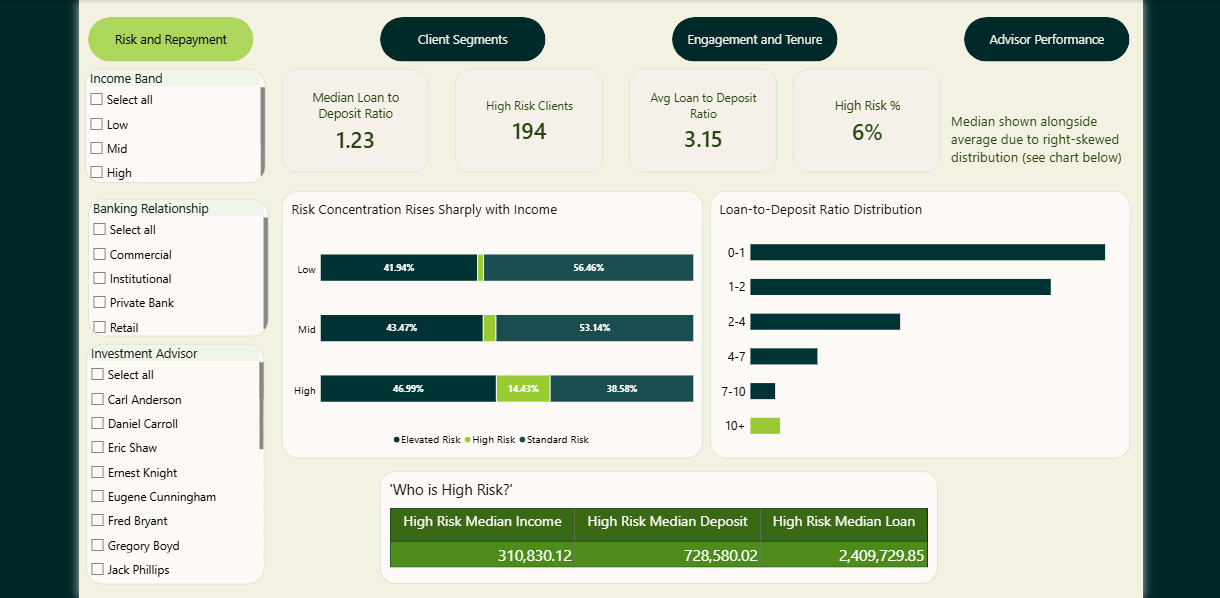

The page's visual inventory and layout, read from the dashboard file:
{"tool":"powerbi","page":{"name":"Risk and Repayment","canvas":[1920,1080],"ordinal":1},"visuals":[{"type":"actionButton","box":[16.5,31,299,80.5],"z":0},{"type":"actionButton","box":[543.5,31,299,80.5],"z":1000},{"type":"actionButton","box":[1070.6,31,299.4,80.5],"z":2000},{"type":"actionButton","box":[1597.9,31,299,80.5],"z":3000},{"type":"cardVisual","fields":{"Data":["Key Measures.High Risk Clients"]},"box":[679.2,123.9,267,187.9],"z":4000},{"type":"cardVisual","fields":{"Data":["Key Measures.Avg Loan to Deposit Ratio"]},"box":[993,123.9,267,187],"z":5000},{"type":"cardVisual","fields":{"Data":["Key Measures.High Risk %"]},"box":[1290.3,123.9,267,187],"z":6000},{"type":"cardVisual","fields":{"Data":["Key Measures.Median Loan to Deposit Ratio"]},"box":[367.5,123.9,264.3,187.9],"z":7000},{"type":"textbox","box":[1575.2,202.3,322.1,109.4],"z":8000},{"type":"clusteredBarChart","title":"Loan-to-Deposit Ratio Distribution","fields":{"Category":["Banking.LDR Bucket"],"Y":["CountNonNull(Banking.Client ID)"]},"box":[1139.6,344.8,759,483],"z":9000},{"type":"hundredPercentStackedBarChart","title":"Risk Concentration Rises Sharply with Income","fields":{"Series":["Banking.Risk Segment"],"Category":["Banking.Income Band"],"Y":["CountNonNull(Banking.Client ID)"]},"box":[367.5,344.8,759.7,483.1],"z":10000},{"type":"tableEx","title":" ''Who is High Risk?''","fields":{"Values":["Key Measures.High Risk Median Income","Key Measures.High Risk Median Deposit","Key Measures.High Risk Median Loan"]},"box":[543,850.6,1007.5,204.4],"z":11000},{"type":"slicer","fields":{"Values":["Banking.Income Band"]},"box":[10.3,123.9,326.2,206.5],"z":12000},{"type":"slicer","fields":{"Values":["Banking Relationship.Banking Relationship"]},"box":[16.5,359.2,326.2,247.7],"z":13000},{"type":"slicer","fields":{"Values":["Investment Advisor.Investment Advisor"]},"box":[12.4,621.4,322.1,433.5],"z":14000}]}

Visuals, with their boxes on the page's 1920x1080 design canvas (x1, y1, x2, y2). These are canvas units, not pixel positions in the 1220x598 screenshot, which may show the page scaled, cropped or inside an application window:
actionButton: locate(16, 31, 316, 112)
actionButton: locate(544, 31, 842, 112)
actionButton: locate(1071, 31, 1370, 112)
actionButton: locate(1598, 31, 1897, 112)
cardVisual - Key Measures.High Risk Clients: locate(679, 124, 946, 312)
cardVisual - Key Measures.Avg Loan to Deposit Ratio: locate(993, 124, 1260, 311)
cardVisual - Key Measures.High Risk %: locate(1290, 124, 1557, 311)
cardVisual - Key Measures.Median Loan to Deposit Ratio: locate(368, 124, 632, 312)
textbox: locate(1575, 202, 1897, 312)
"Loan-to-Deposit Ratio Distribution" clusteredBarChart: locate(1140, 345, 1899, 828)
"Risk Concentration Rises Sharply with Income" hundredPercentStackedBarChart: locate(368, 345, 1127, 828)
" ''Who is High Risk?''" tableEx: locate(543, 851, 1550, 1055)
slicer - Banking.Income Band: locate(10, 124, 336, 330)
slicer - Banking Relationship.Banking Relationship: locate(16, 359, 343, 607)
slicer - Investment Advisor.Investment Advisor: locate(12, 621, 334, 1055)
